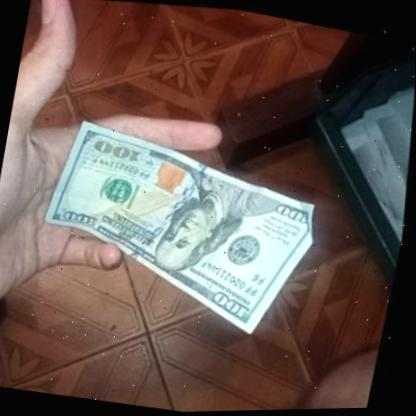one_hundred-front: (8, 76, 353, 376)
